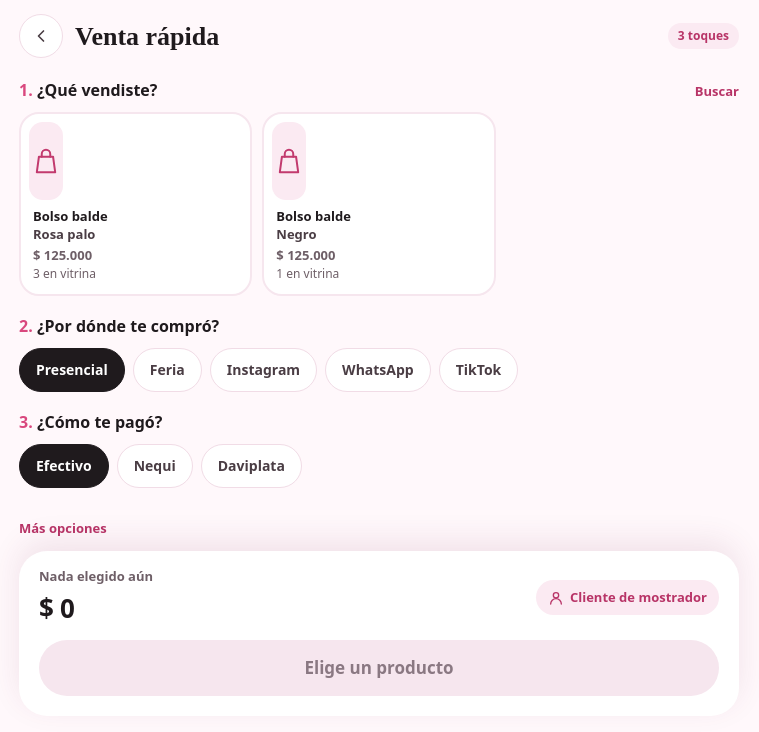
Test: no suma más de lo que hay en vitrina
Click the button "Bolso balde Negro $ 125.000 1 en vitrina".
click(379, 204)  # box x1=262 y1=112 x2=496 y2=296
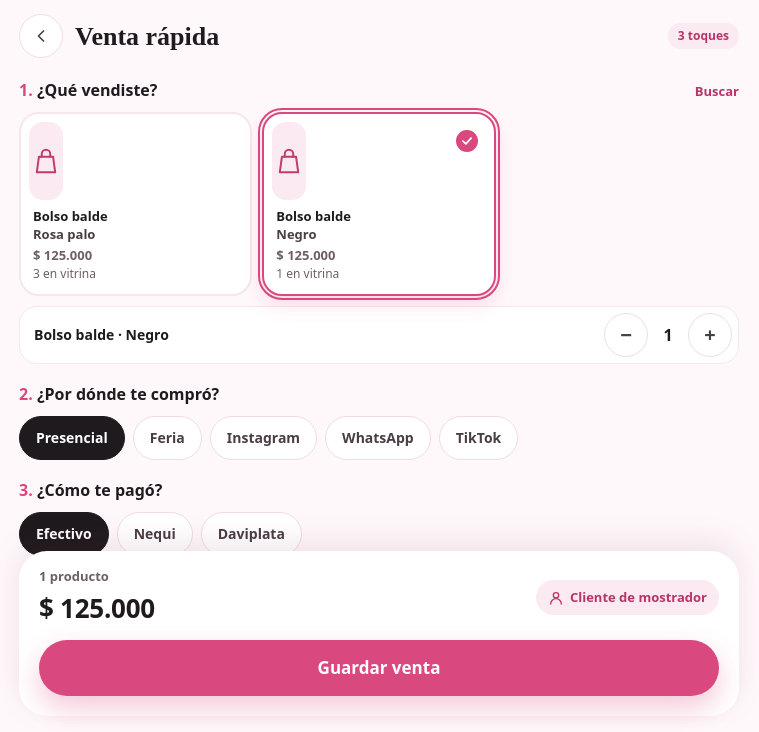
Click the button "Bolso balde Negro $ 125.000 1 en vitrina".
click(379, 204)  # box x1=262 y1=112 x2=496 y2=296
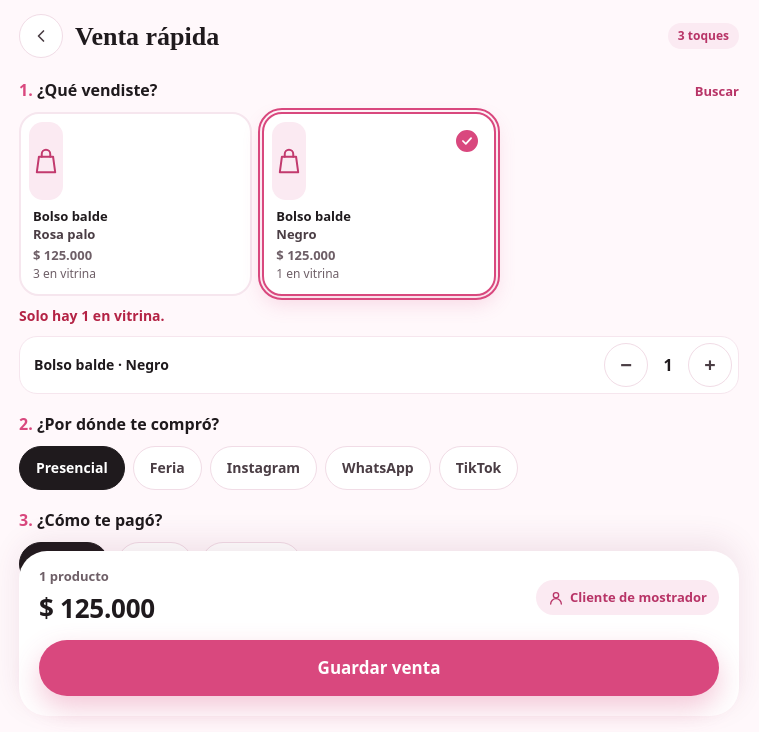
Check: the text "$ 125.000" below "1 producto" is shown, box x1=39 y1=590 x2=155 y2=626
Check: the text "Solo hay 1 en vitrina." is shown, box x1=19 y1=306 x2=165 y2=325
